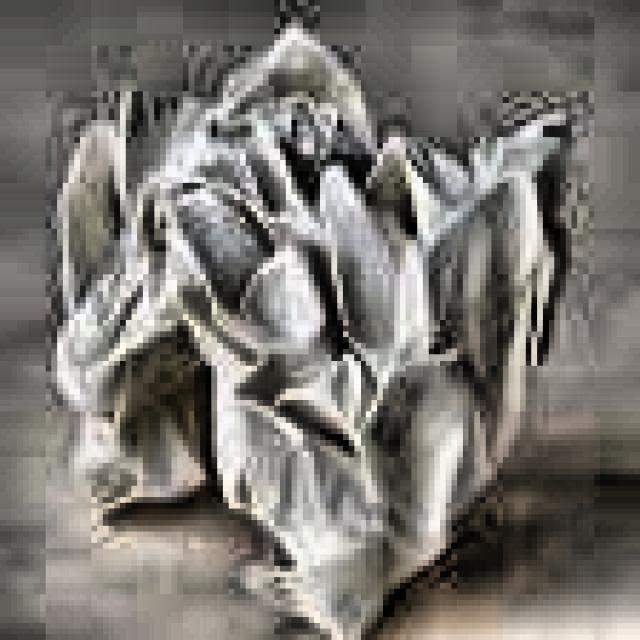paper: (46, 16, 583, 640)
